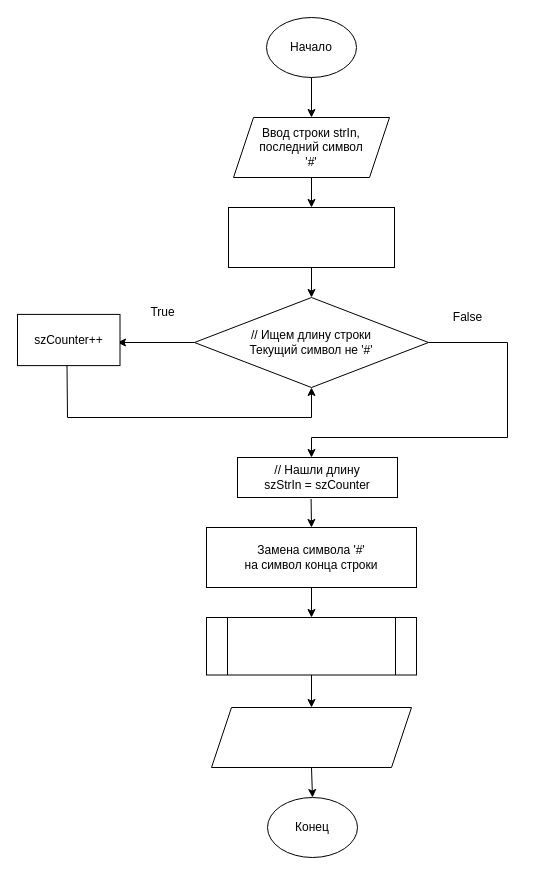
This 533x875 diagram has some shape labels left out. The box of each missing label's shape, as (x1, y1, x2, y2) in pixels:
Вывод строки strOut: (210, 706, 412, 768)
Вызов вспомогательного алгоритма: (206, 616, 416, 675)
Объявл. переменных: strOut = "", szCounter = 0, szStrIn = 0.: (228, 206, 394, 268)
